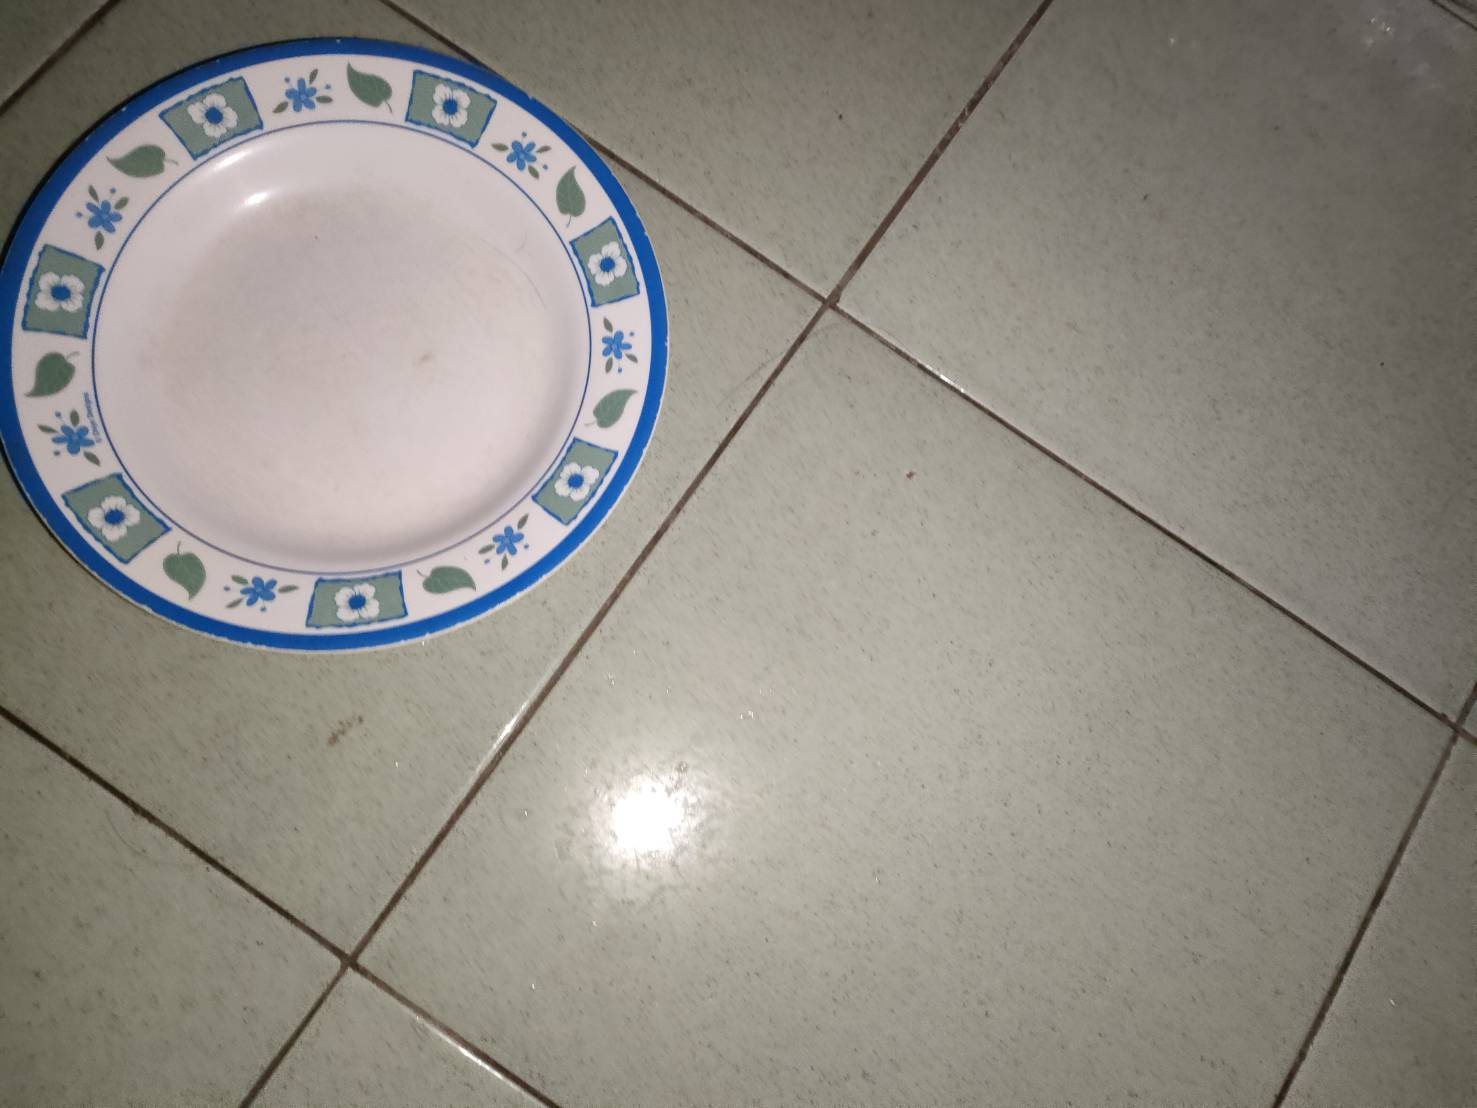piring: (0, 34, 674, 653)
